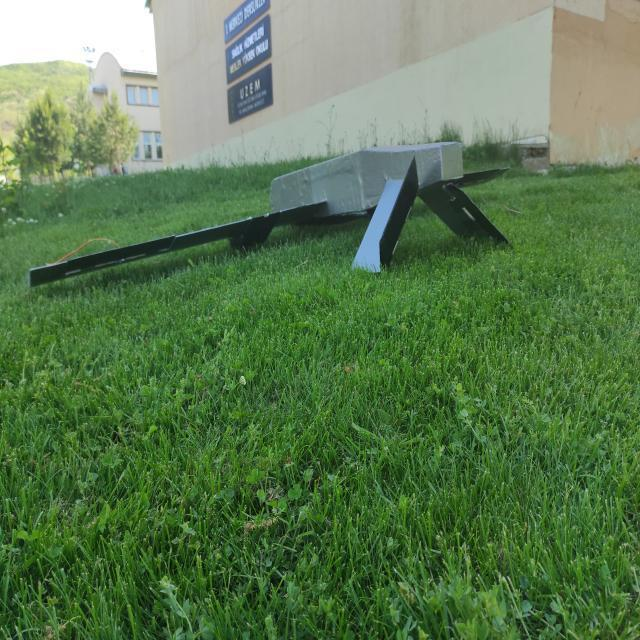iha: (26, 160, 512, 293)
